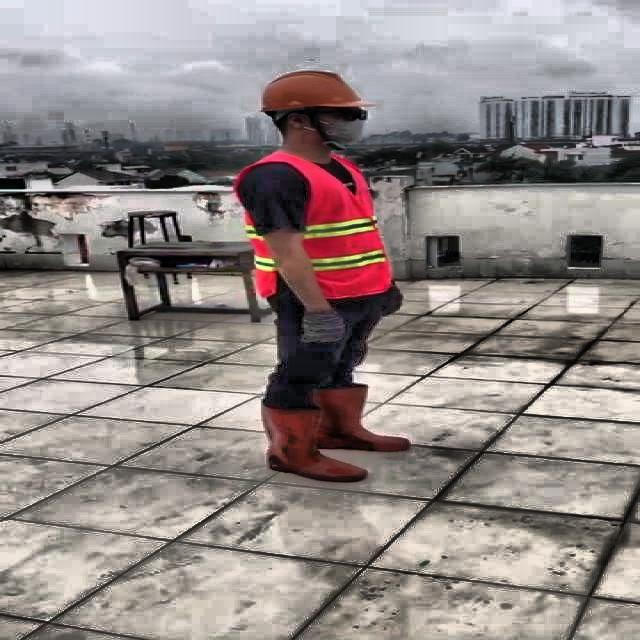safety_helmet: (256, 66, 368, 120)
safety_jacket: (235, 151, 392, 300)
